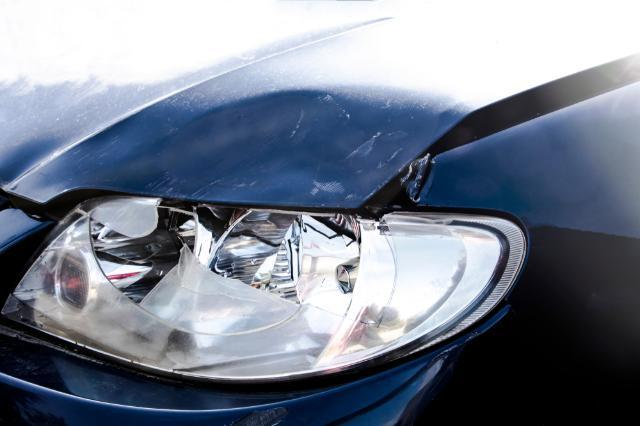dent: (78, 90, 462, 207)
lamp broken: (0, 195, 514, 382)
